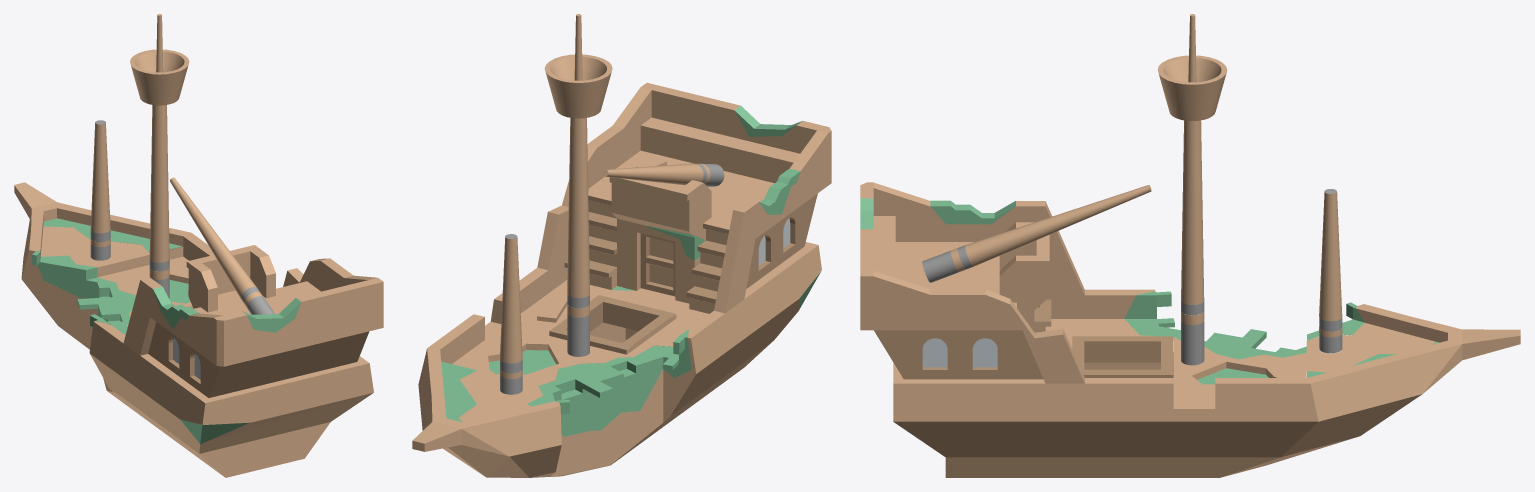
The model's file is ship-wreck.glb.
3 views of the same model, side by side, from view 1: azimuth 30°, elevation 25°; view 2: azimuth 150°, elevation 25°; view 3: azimuth 270°, elevation 25° (orthographic). The views are drawn at different scales.
Visible parts, largest first — view 1: ship_wreck_8angles; view 2: ship_wreck_8angles; view 3: ship_wreck_8angles.
Boxes of the visible parts, left/top/right/bottom form: ship_wreck_8angles: left=14, top=14, right=383, bottom=477; ship_wreck_8angles: left=412, top=14, right=831, bottom=477; ship_wreck_8angles: left=860, top=14, right=1520, bottom=477.
Size of the model in its own units: 2.85 by 5.92 by 8.05.
